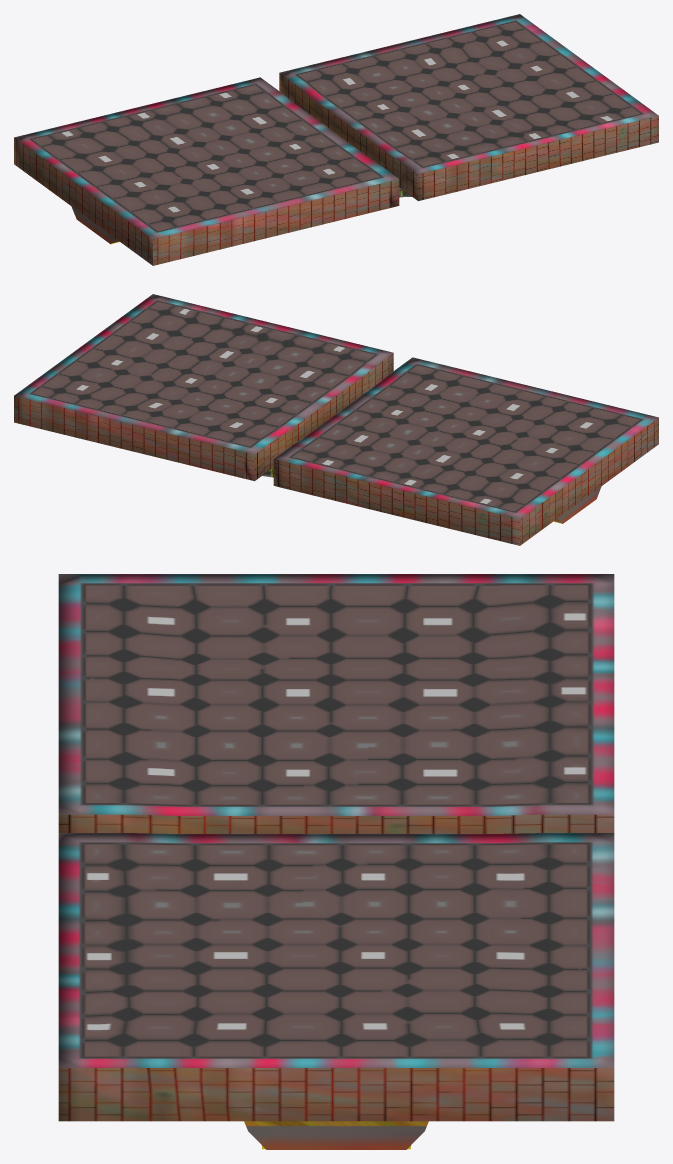
Rendered from Factory_3.fbx.
The picture shows the model from 3 angles, top to bottom: view 1: azimuth 30°, elevation 25°; view 2: azimuth 150°, elevation 25°; view 3: azimuth 270°, elevation 25°; orthographic projection. The views are drawn at different scales.
Parts seen in each view (by area): view 1: Factory_shell_mesh2; view 2: Factory_shell_mesh2; view 3: Factory_shell_mesh2.
Boxes of the visible parts, x1,y1,x2,y2 form: Factory_shell_mesh2: [14, 14, 658, 265]; Factory_shell_mesh2: [14, 294, 658, 545]; Factory_shell_mesh2: [58, 574, 614, 1149].
Size of the model in its own units: 16.8 by 1.46 by 7.99.
